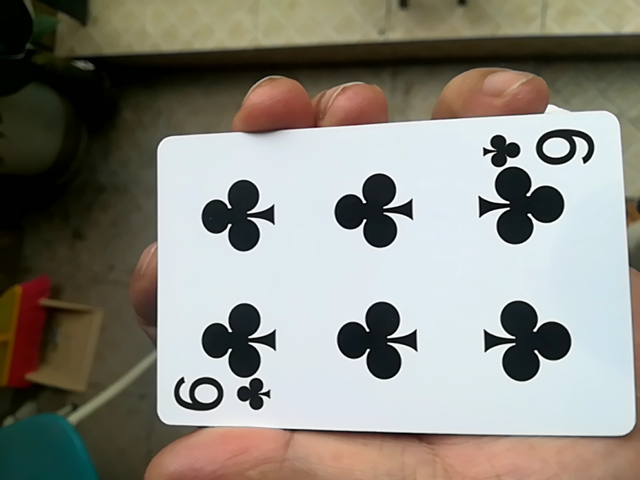mh 6: (146, 107, 631, 446)
